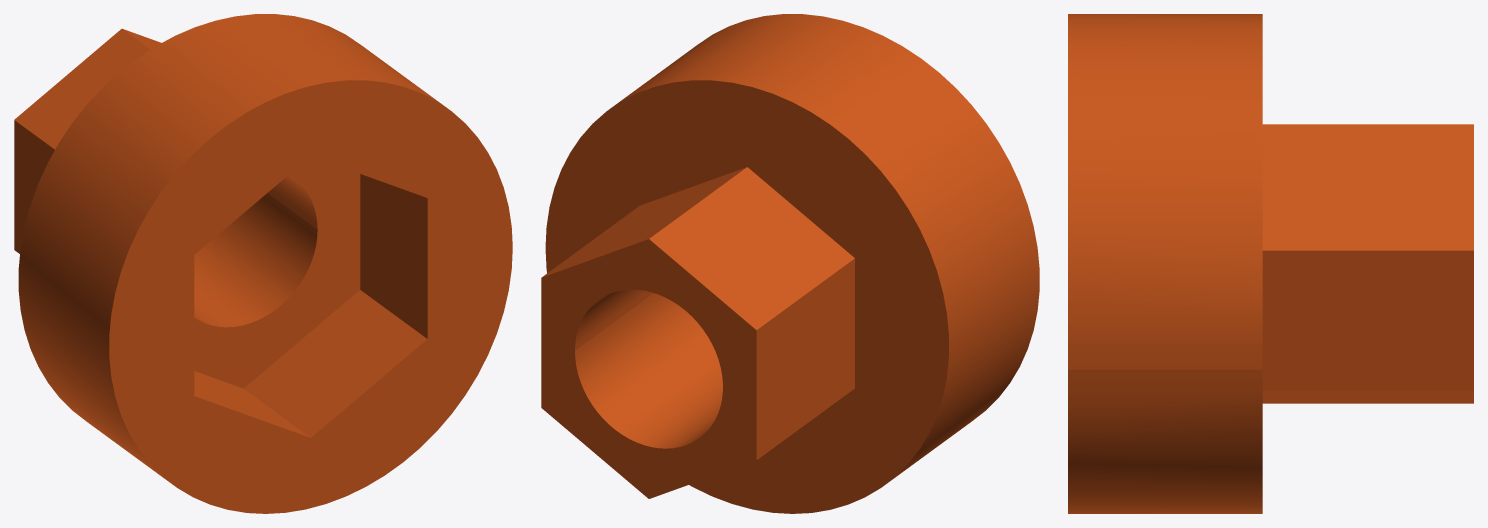
Rendered from .moza_crp_dayton_tt25_m6_insert.step.glb.
3 views of the same model, side by side, from view 1: azimuth 30°, elevation 25°; view 2: azimuth 150°, elevation 25°; view 3: azimuth 270°, elevation 25° (orthographic). The views are drawn at different scales.
Parts seen in each view (by area): view 1: o1; view 2: o1; view 3: o1.
Boxes of the visible parts, bbox=[...] form: o1: bbox=[14, 14, 512, 513]; o1: bbox=[541, 14, 1039, 513]; o1: bbox=[1068, 14, 1473, 513].
Bounding box in the file's own units: 0.018 × 0.018 × 0.0146.
